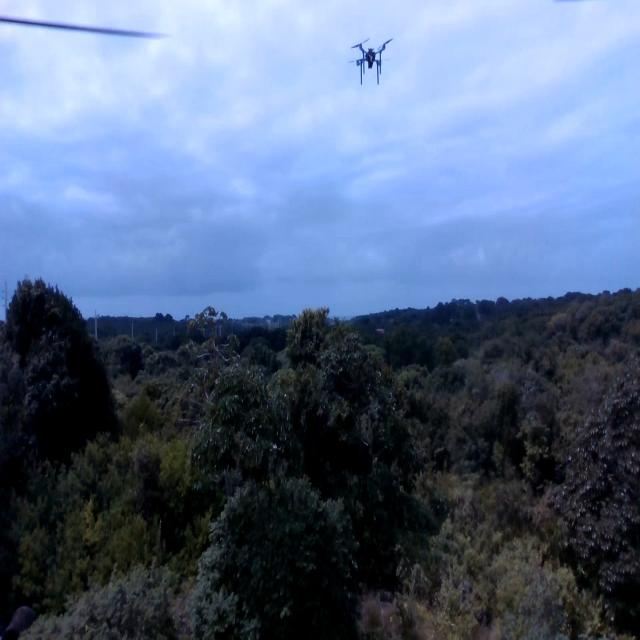-uav-: (348, 27, 398, 92)
